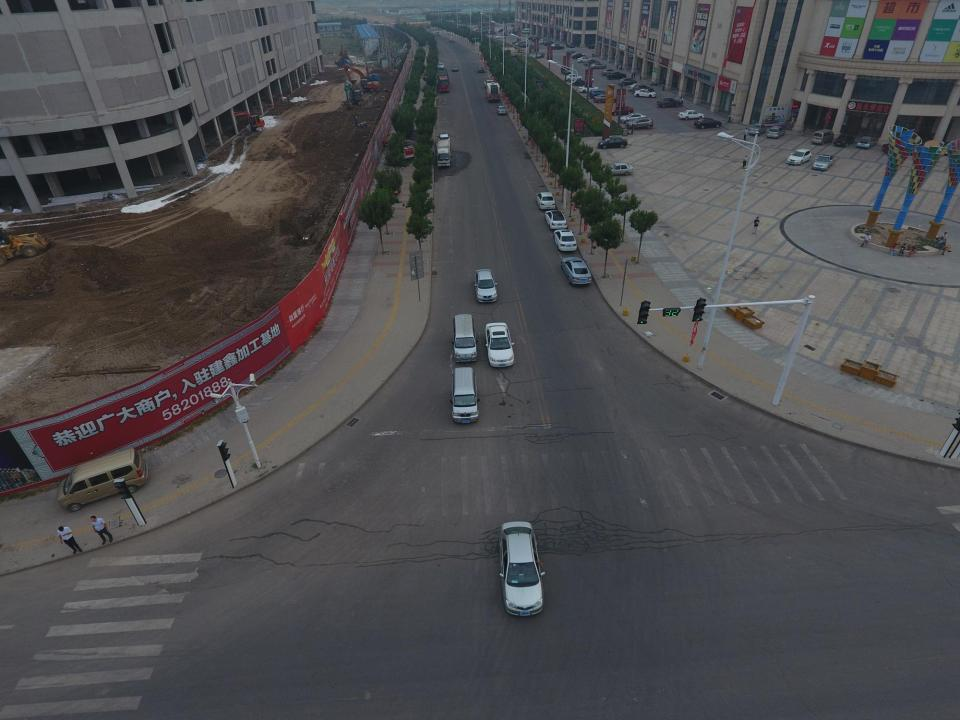car: (499, 522, 544, 616), (485, 322, 514, 366), (561, 257, 591, 285), (474, 269, 498, 302), (57, 526, 82, 554), (90, 515, 113, 545), (553, 229, 576, 251), (544, 210, 567, 230), (603, 162, 633, 177), (786, 148, 812, 165), (598, 136, 628, 149), (536, 192, 556, 210), (882, 142, 903, 159), (812, 154, 834, 170), (626, 117, 653, 130), (694, 118, 722, 129), (620, 113, 647, 123), (678, 110, 705, 120), (856, 136, 876, 149), (834, 134, 855, 146), (656, 97, 681, 107), (766, 126, 786, 138), (610, 105, 634, 115), (593, 94, 617, 103), (748, 124, 766, 136), (588, 89, 610, 98), (632, 84, 654, 93), (606, 71, 626, 80), (634, 89, 656, 97), (578, 85, 600, 93), (437, 133, 451, 145), (618, 78, 638, 85), (628, 84, 647, 91), (570, 79, 588, 86), (564, 75, 583, 81), (601, 69, 617, 76), (590, 63, 608, 69), (577, 56, 593, 62), (584, 60, 600, 66), (496, 106, 506, 115), (571, 52, 587, 57), (572, 54, 588, 59), (520, 42, 533, 48), (587, 44, 600, 50), (560, 67, 571, 74), (544, 40, 556, 46), (566, 50, 578, 56), (568, 51, 580, 57), (528, 35, 540, 40), (532, 36, 542, 42), (535, 52, 545, 58), (552, 45, 564, 50), (550, 42, 560, 48), (495, 34, 506, 39), (512, 39, 522, 44), (551, 43, 561, 48), (566, 42, 574, 48), (482, 29, 491, 34), (487, 30, 496, 35), (499, 27, 508, 32), (478, 66, 484, 73), (452, 65, 459, 71), (437, 63, 444, 69), (510, 30, 518, 35), (496, 28, 505, 32), (509, 30, 518, 33), (424, 25, 431, 28), (458, 24, 465, 27), (471, 26, 475, 28)
truck: (384, 145, 415, 164), (436, 140, 452, 167), (438, 70, 450, 92), (487, 82, 500, 102), (360, 73, 380, 83), (334, 59, 351, 67), (484, 80, 494, 88)
van: (56, 448, 148, 511), (450, 368, 480, 424), (452, 314, 478, 363), (811, 129, 834, 145), (539, 38, 550, 44), (517, 40, 527, 46), (521, 28, 530, 34), (476, 28, 484, 33), (435, 30, 440, 36), (449, 37, 455, 42)
